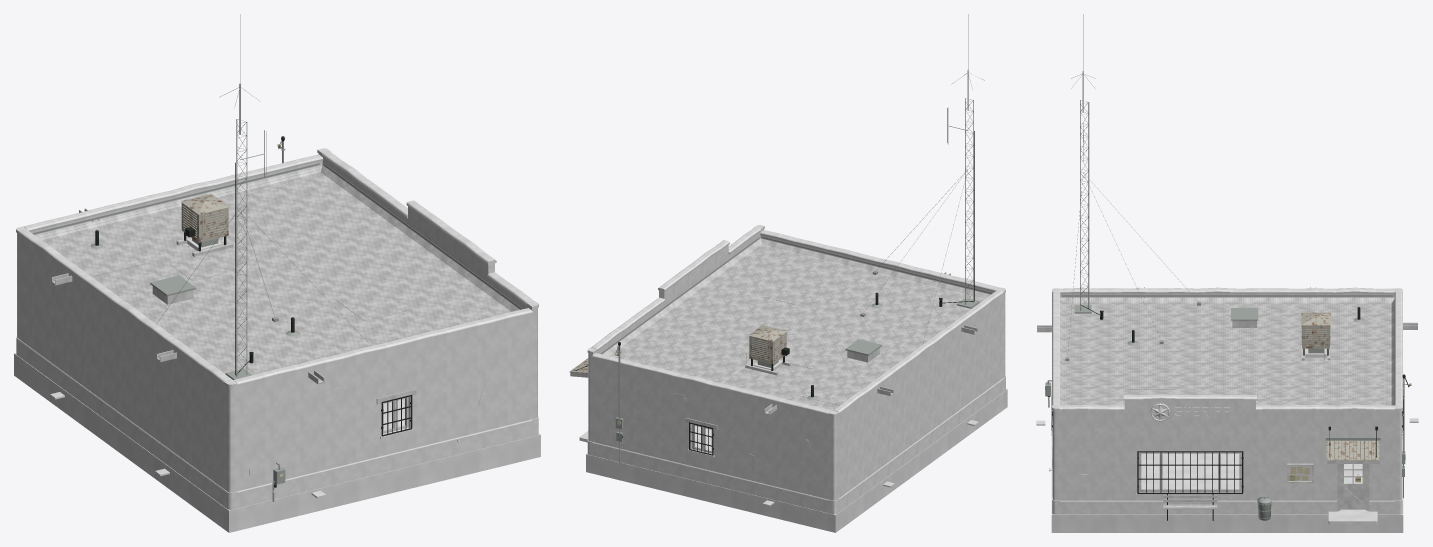
The model's file is SM_Town_Sheriff_Shell.glb.
The picture shows the model from 3 angles, left to right: view 1: azimuth 30°, elevation 25°; view 2: azimuth 150°, elevation 25°; view 3: azimuth 270°, elevation 25°; orthographic projection. The views are drawn at different scales.
Visible parts, largest first — view 1: SM_Town_Sheriff_Shell; view 2: SM_Town_Sheriff_Shell; view 3: SM_Town_Sheriff_Shell.
Boxes of the visible parts, box(x1,y1,x2,y2) form: SM_Town_Sheriff_Shell: box(14, 14, 540, 532); SM_Town_Sheriff_Shell: box(569, 14, 1007, 532); SM_Town_Sheriff_Shell: box(1036, 14, 1418, 532).
Size of the model in its own units: 12 by 15.7 by 13.38.
23 materials, 18 textured.
